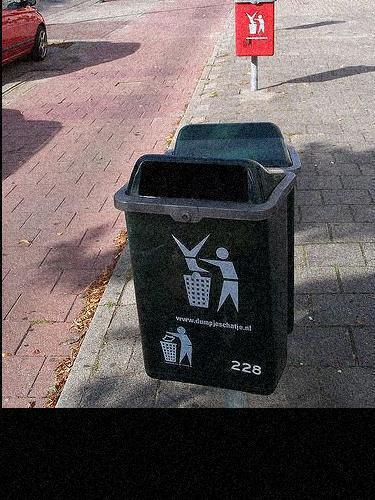Bote de Basura: (116, 150, 293, 397), (176, 124, 295, 335)
